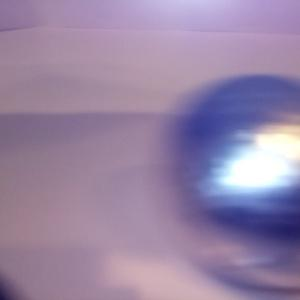alive_ball: (164, 76, 300, 288)
